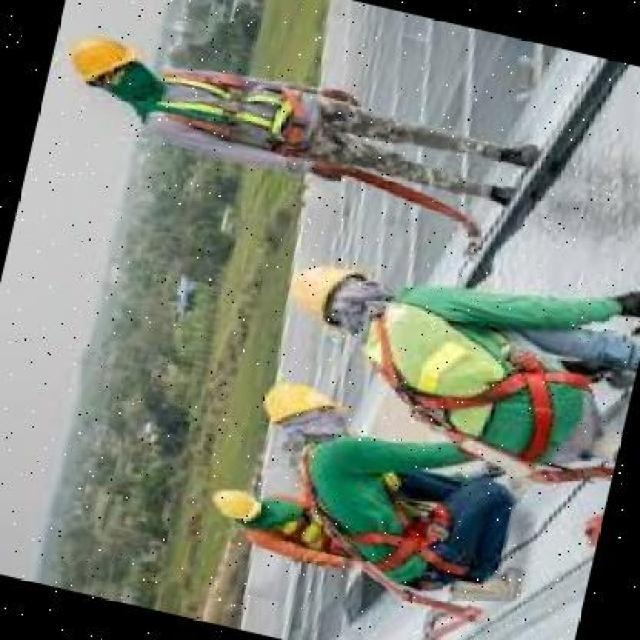Arnes_seguridad: (345, 306, 601, 479), (272, 436, 491, 610), (130, 51, 335, 164), (242, 487, 367, 573)
